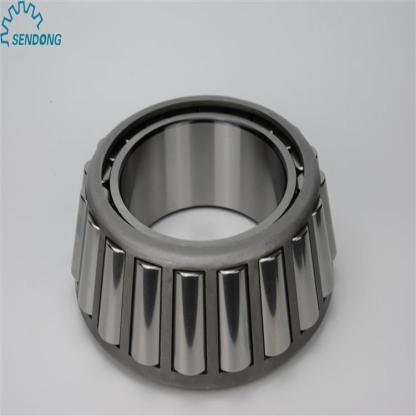FOD: (65, 87, 345, 398)
